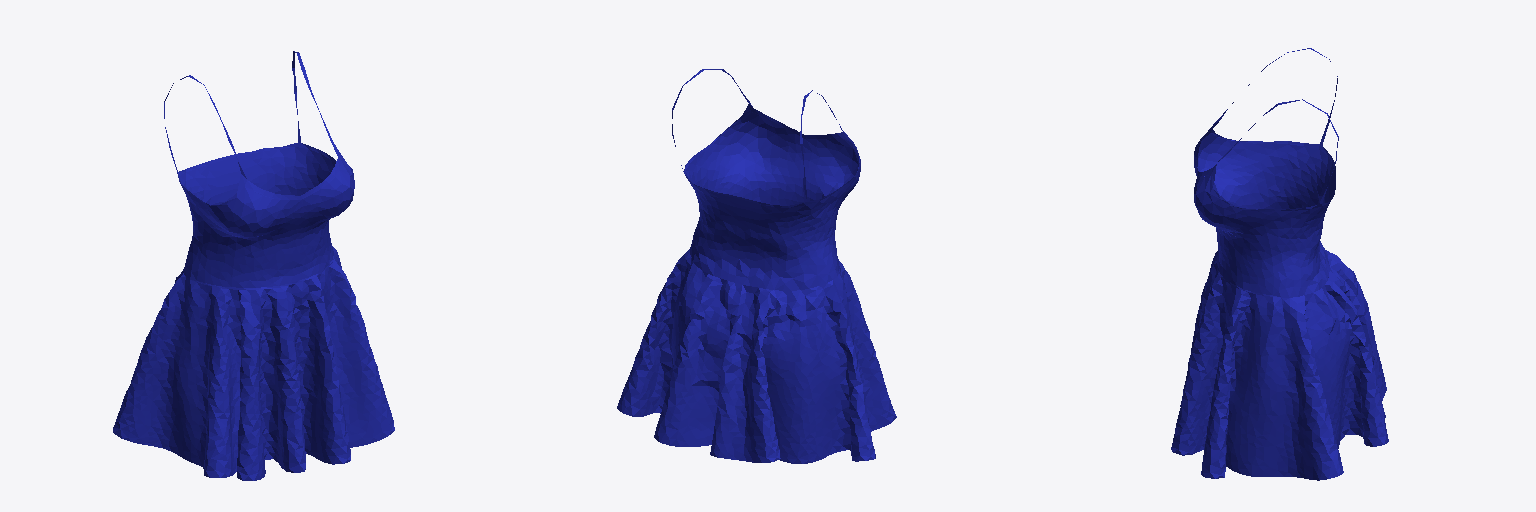
3 renders of one model, left to right at view 1: azimuth 30°, elevation 25°; view 2: azimuth 150°, elevation 25°; view 3: azimuth 270°, elevation 25°, orthographic.
Visible parts, largest first — view 1: medium_blueDress_noinside:polySurface2 medium_blueDress_noinside; view 2: medium_blueDress_noinside:polySurface2 medium_blueDress_noinside; view 3: medium_blueDress_noinside:polySurface2 medium_blueDress_noinside.
Part boxes in pixels (x1,y1,x2,y2): medium_blueDress_noinside:polySurface2 medium_blueDress_noinside: (113,51,394,480); medium_blueDress_noinside:polySurface2 medium_blueDress_noinside: (617,69,896,463); medium_blueDress_noinside:polySurface2 medium_blueDress_noinside: (1171,48,1388,480).
Bounding box in the file's own units: 5.33 × 7.46 × 4.05.
10 materials, 1 textured.